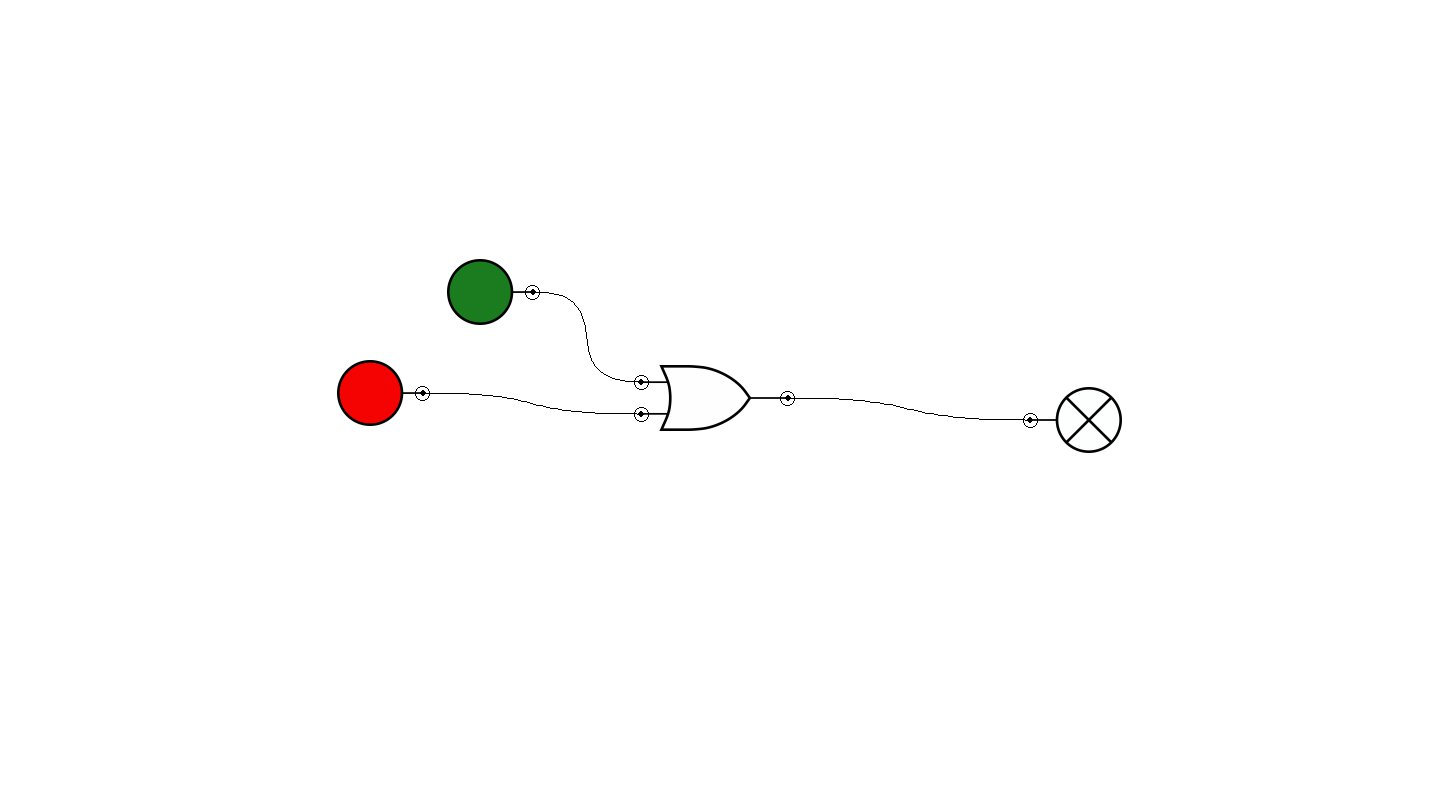bulb: (1023, 387, 1122, 453)
or: (634, 365, 795, 431)
switch_False: (337, 360, 430, 426)
switch_True: (447, 259, 540, 325)
